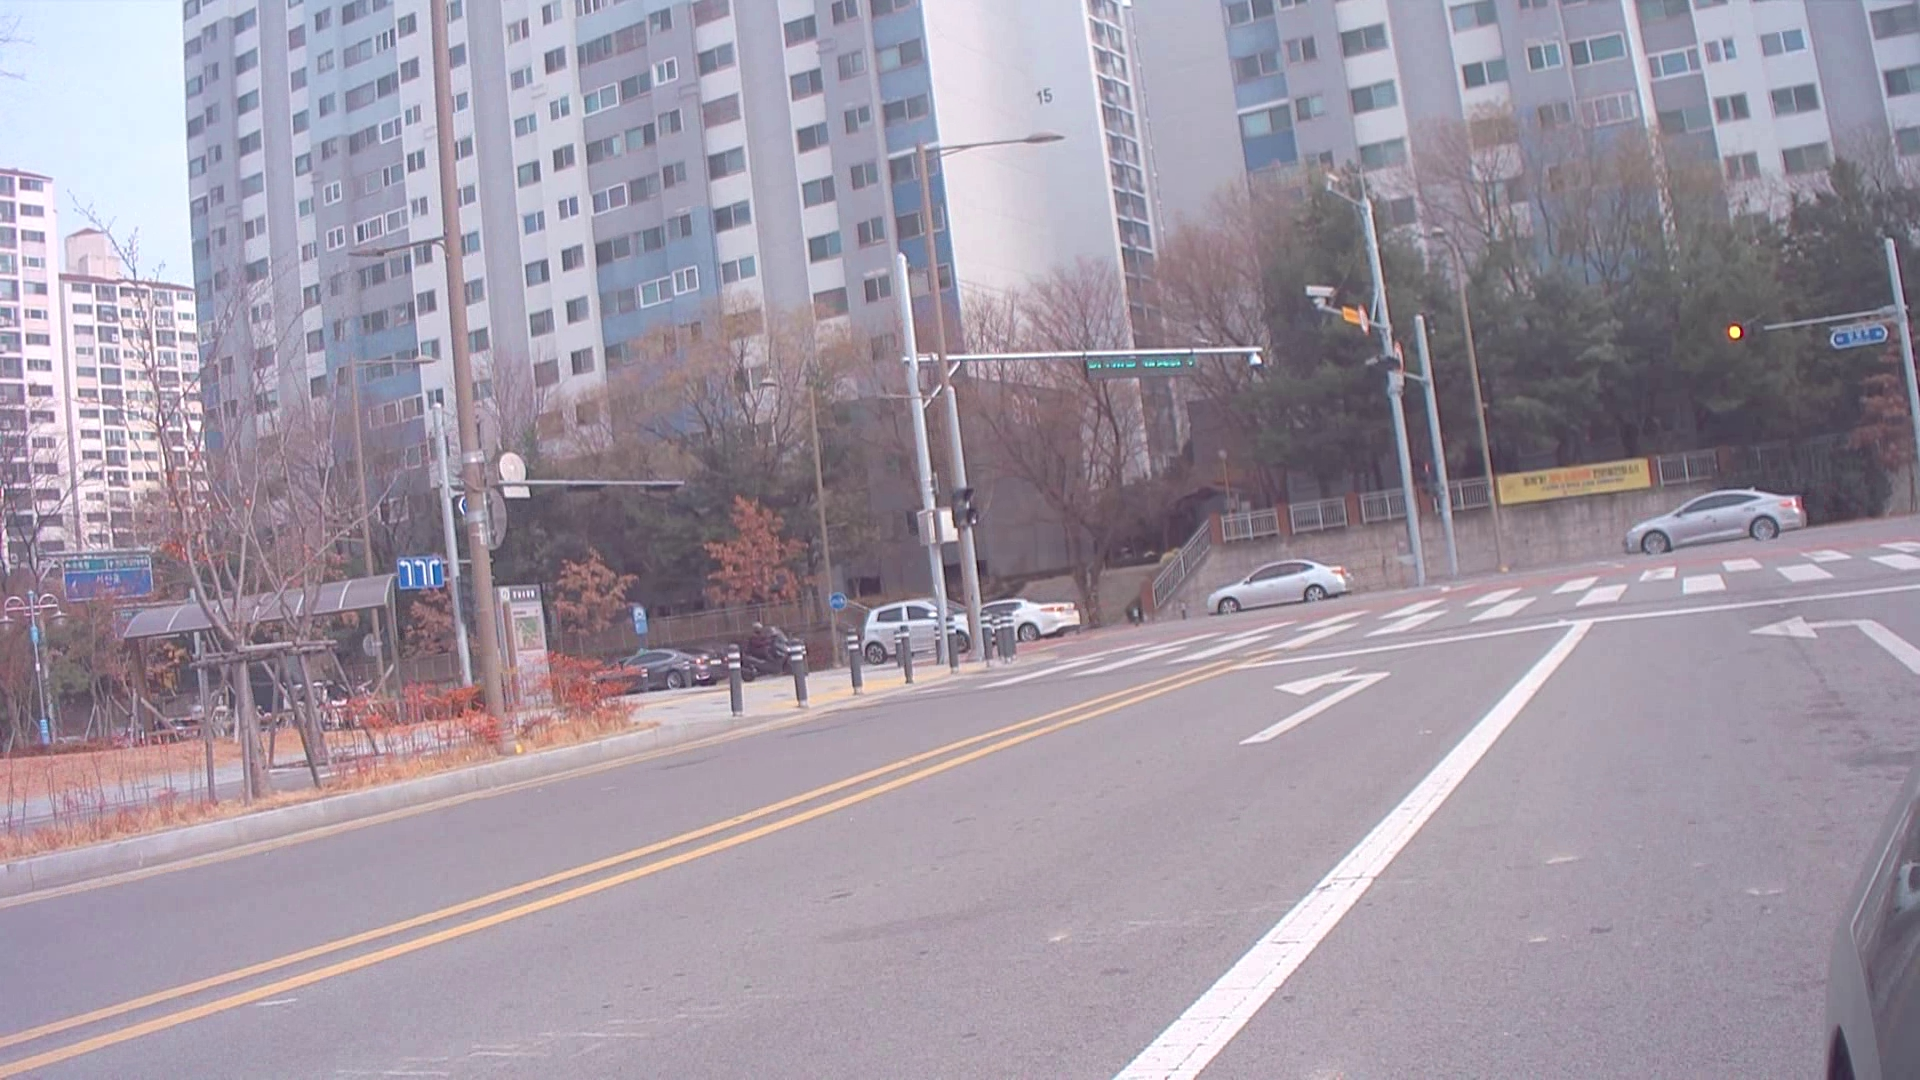trafficLight: (1727, 322, 1766, 344)
